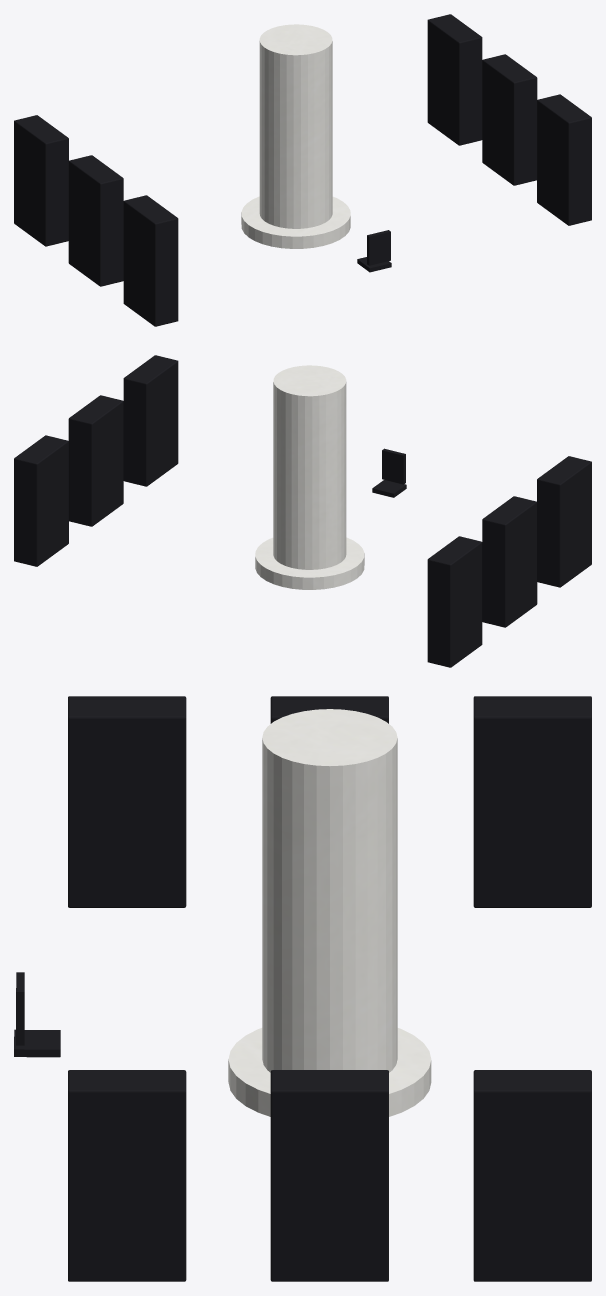
File: ENERGIA_METALICO.fbx
The picture shows the model from 3 angles, top to bottom: view 1: azimuth 30°, elevation 25°; view 2: azimuth 150°, elevation 25°; view 3: azimuth 270°, elevation 25°; orthographic projection. The views are drawn at different scales.
Visible parts, largest first — view 1: En_Reactor_Pilar, En_Bateria_L_1, En_Bateria_R_3, En_Bateria_L_2, En_Bateria_R_2, En_Bateria_L_3, En_Bateria_R_1, En_Reactor_Base, En_Silla_Respaldo; view 2: En_Reactor_Pilar, En_Bateria_L_3, En_Bateria_R_1, En_Bateria_L_2, En_Bateria_R_2, En_Bateria_L_1, En_Bateria_R_3, En_Reactor_Base, En_Silla_Respaldo, En_Silla_Asiento; view 3: En_Reactor_Pilar, En_Bateria_L_3, En_Bateria_R_3, En_Bateria_L_1, En_Bateria_R_1, En_Bateria_R_2, En_Reactor_Base, En_Bateria_L_2, En_Silla_Asiento.
Boxes of the visible parts, x1,y1,x2,y2 form: En_Reactor_Pilar: (259,24,332,228); En_Bateria_L_1: (123,195,178,326); En_Bateria_R_3: (427,14,482,145); En_Bateria_L_2: (68,155,123,286); En_Bateria_R_2: (482,54,537,185); En_Bateria_L_3: (14,115,68,246); En_Bateria_R_1: (537,94,591,225); En_Reactor_Base: (241,196,350,248); En_Silla_Respaldo: (367,230,390,265); En_Reactor_Pilar: (273,365,346,569); En_Bateria_L_3: (427,536,482,667); En_Bateria_R_1: (123,355,178,486); En_Bateria_L_2: (482,496,537,627); En_Bateria_R_2: (68,395,123,526); En_Bateria_L_1: (537,456,591,587); En_Bateria_R_3: (14,435,68,566); En_Reactor_Base: (255,537,364,589); En_Silla_Respaldo: (382,448,405,484); En_Silla_Asiento: (372,480,406,497); En_Reactor_Pilar: (262,709,397,1072); En_Bateria_L_3: (473,696,591,907); En_Bateria_R_3: (473,1070,591,1281); En_Bateria_L_1: (68,696,186,907); En_Bateria_R_1: (68,1070,186,1281); En_Bateria_R_2: (270,1070,388,1281); En_Reactor_Base: (228,1028,431,1116); En_Bateria_L_2: (270,696,388,723); En_Silla_Asiento: (14,1029,60,1057).
Size of the model in its own units: 1106 by 450 by 684.
Materials: 2 (2 with a texture image).
